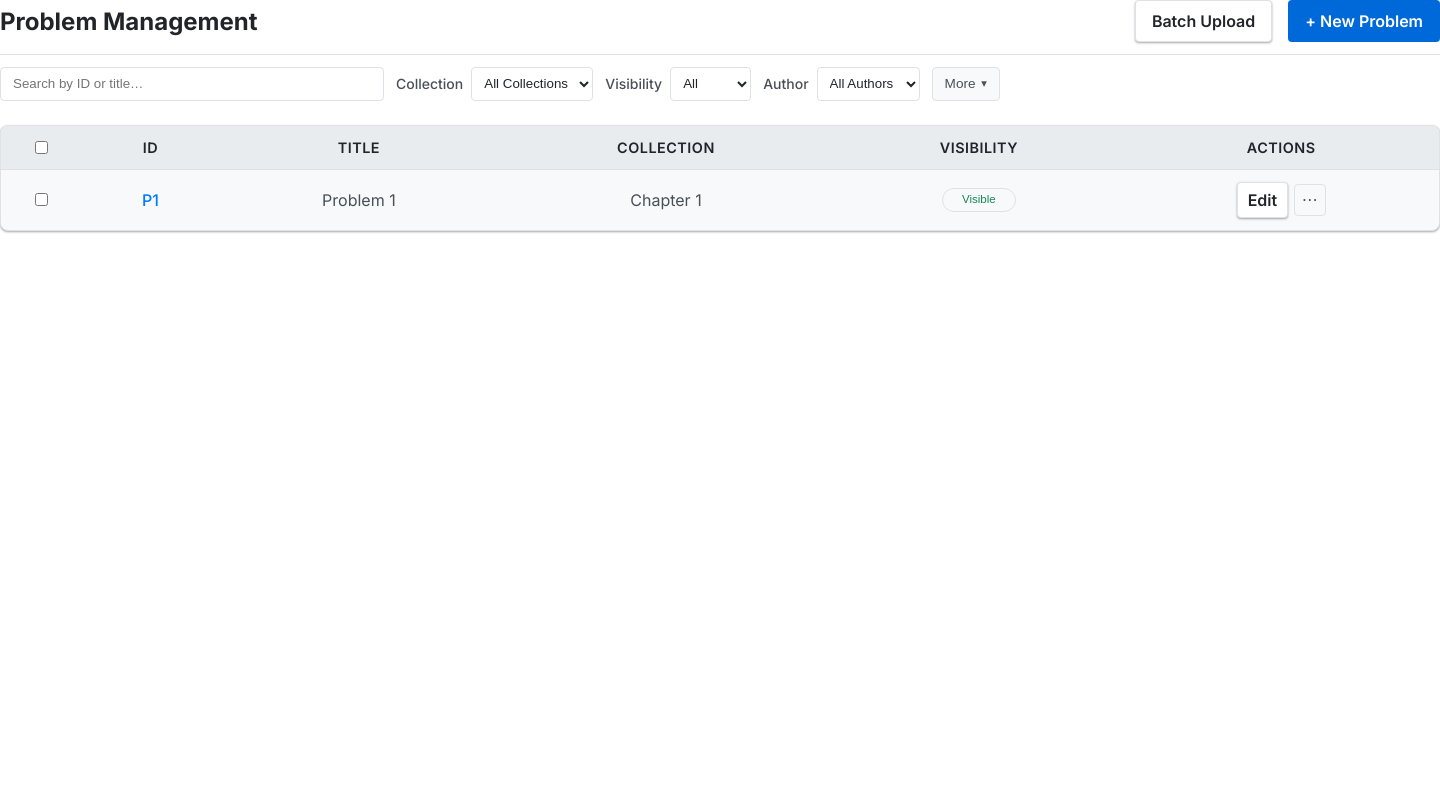
ProblemManagement Component › preselects the existing collection when editing a collected problem
Click the button "Edit" at (1262, 200), box [1237,182,1288,218]
(page scrolled)
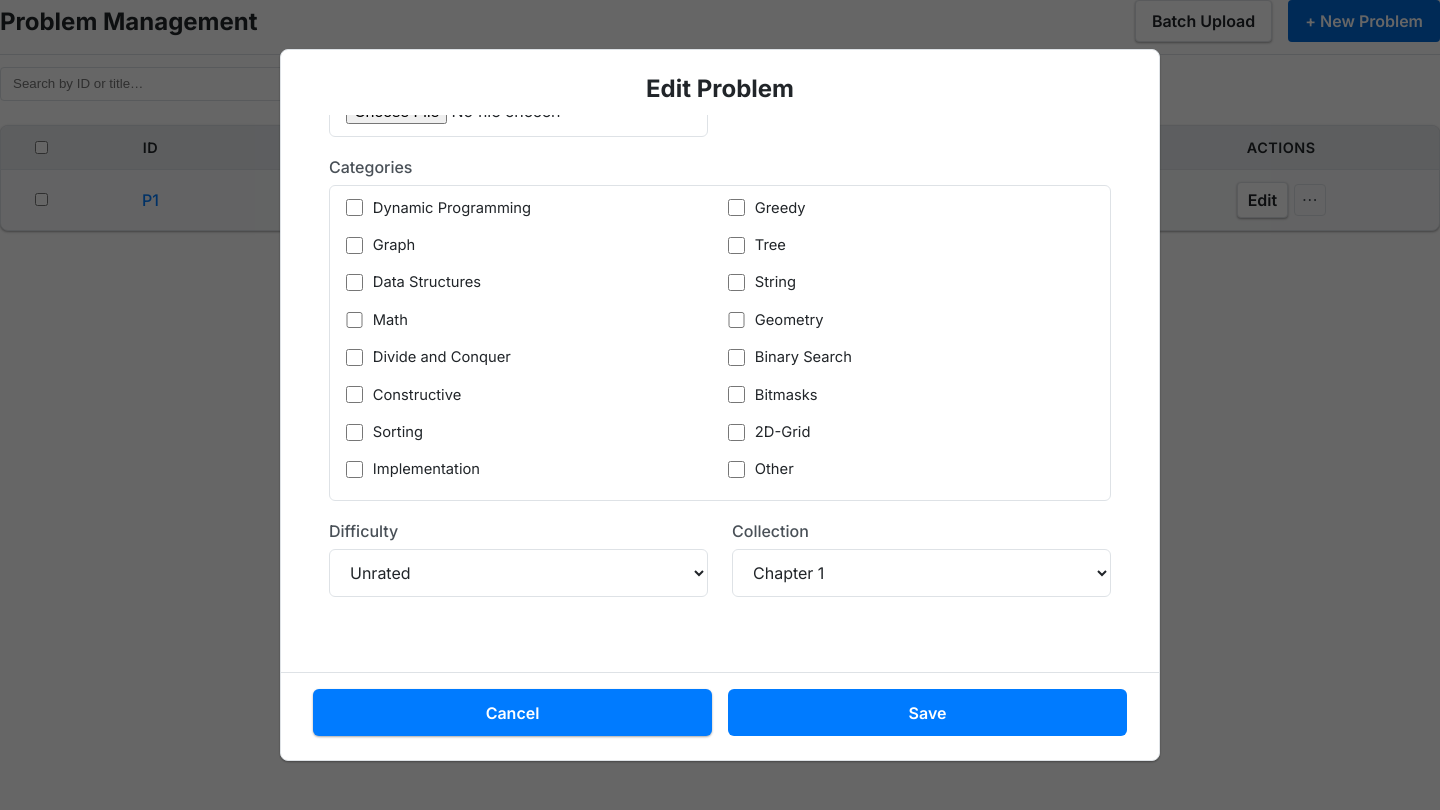
Check: the dropdown labelled "Collection" shows "Chapter 1", box [732,549,1111,597]
